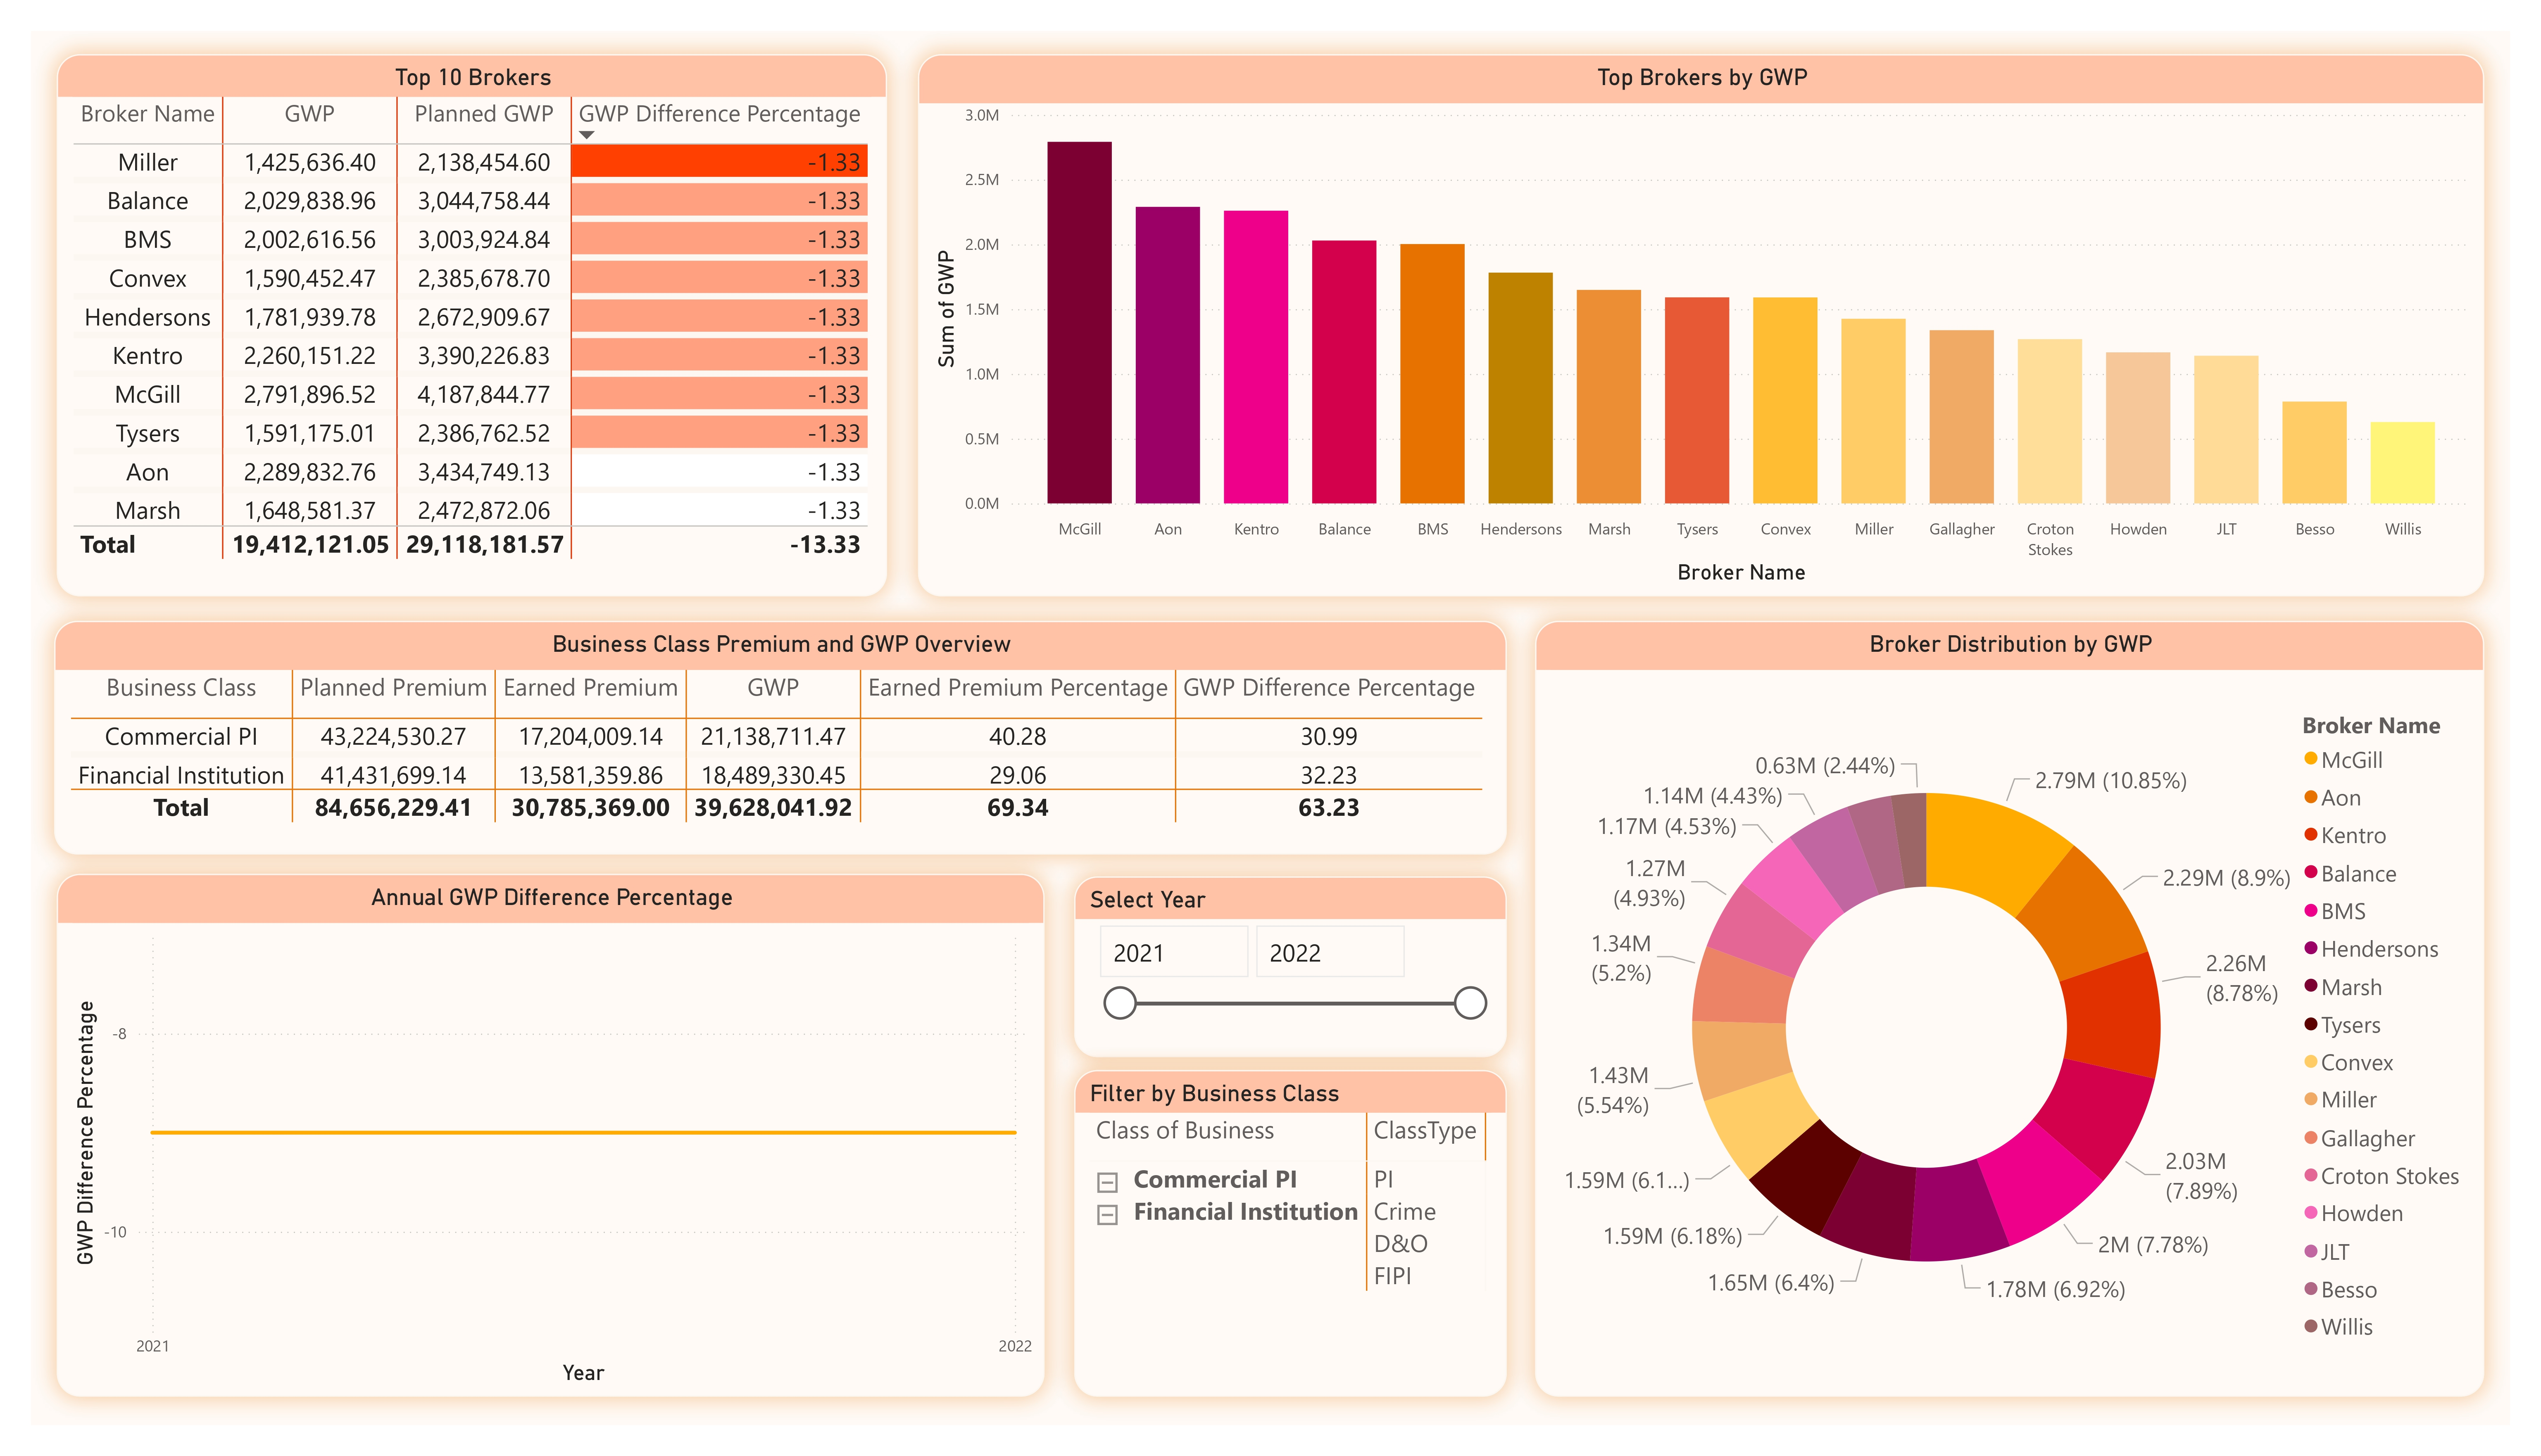

What the dashboard file says about the page in this screenshot:
{"tool":"powerbi","page":{"name":"Page 1","canvas":[1920,1080],"ordinal":0},"visuals":[{"type":"tableEx","title":"Top 10 Brokers","fields":{"Values":["Broker stats.Broker Name","Broker stats.GWP","Broker stats.Planned GWP","Broker stats.GWP_Difference_Percentage"]},"box":[20,18.3,643.3,420],"z":0},{"type":"clusteredColumnChart","title":"Top Brokers by GWP","fields":{"Y":["Broker stats.GWP"],"Category":["Broker stats.Broker Name"]},"box":[686.7,18.3,1213.3,420],"z":1000},{"type":"donutChart","title":"Broker Distribution by GWP","fields":{"Category":["Broker stats.Broker Name"],"Y":["Broker stats.GWP"]},"box":[1165,456.7,735,601.7],"z":2000},{"type":"lineChart","title":"Annual GWP Difference Percentage","fields":{"Category":["Broker stats.Year"],"Y":["Broker stats.GWP_Difference_Percentage"]},"box":[20,653.3,765,405],"z":3000},{"type":"tableEx","title":"Business Class Premium and GWP Overview","fields":{"Values":["Class stats.Class of Business","Class stats.Business Plan","Class stats.Earned Premium","Class stats.GWP ","Class stats.Earned_Percent","Class stats.GWP_Percent"]},"box":[18.3,456.7,1125,181.7],"z":4000},{"type":"slicer","title":"Select Year","fields":{"Values":["Class stats.Year"]},"box":[808.3,655,335,140],"z":5000},{"type":"pivotTable","title":"Filter by Business Class","fields":{"Rows":["Class stats.Class of Business Hierarchy.Class of Business","Class stats.Class of Business Hierarchy.ClassType"]},"box":[808.3,805,335,253.3],"z":6000}]}

Visuals, with their boxes on the page's 1920x1080 design canvas (x1, y1, x2, y2). These are canvas units, not pixel positions in the 2541x1456 screenshot, which may show the page scaled, cropped or inside an application window:
"Top 10 Brokers" tableEx: locate(20, 18, 663, 438)
"Top Brokers by GWP" clusteredColumnChart: locate(687, 18, 1900, 438)
"Broker Distribution by GWP" donutChart: locate(1165, 457, 1900, 1058)
"Annual GWP Difference Percentage" lineChart: locate(20, 653, 785, 1058)
"Business Class Premium and GWP Overview" tableEx: locate(18, 457, 1143, 638)
"Select Year" slicer: locate(808, 655, 1143, 795)
"Filter by Business Class" pivotTable: locate(808, 805, 1143, 1058)
